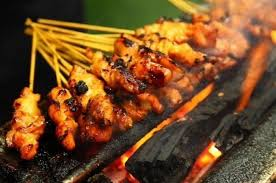sate: (5, 14, 260, 165)
